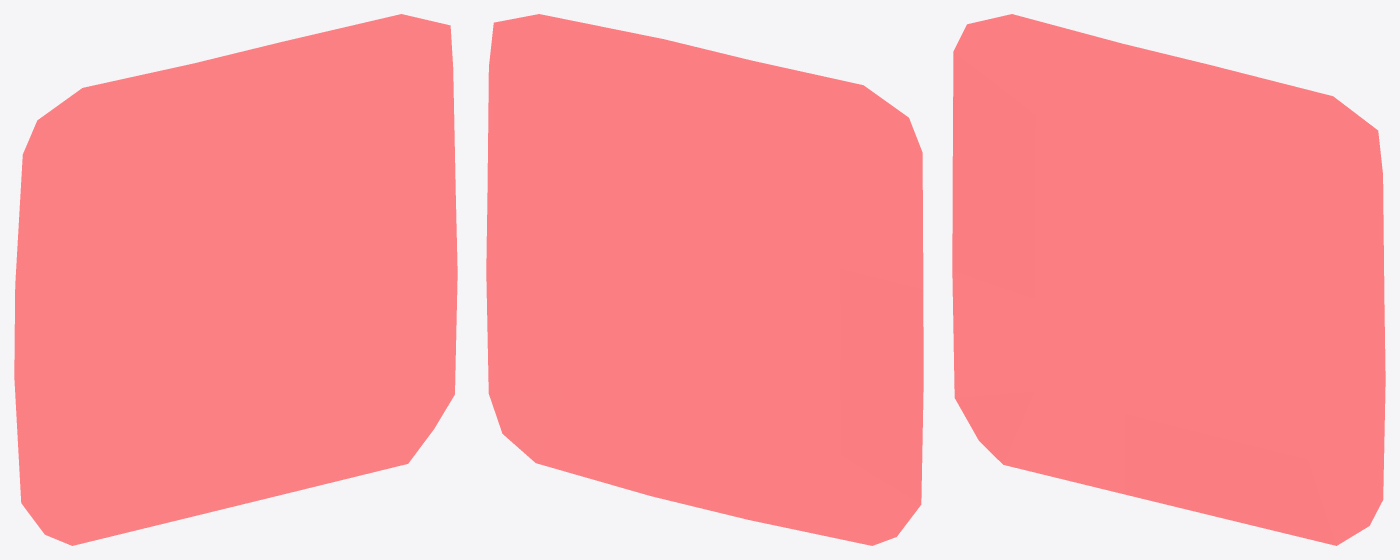
File: triggers_007.gltf
3 renders of one model, left to right at view 1: azimuth 30°, elevation 25°; view 2: azimuth 150°, elevation 25°; view 3: azimuth 330°, elevation 25°, orthographic.
Visible parts, largest first — view 1: Trigger007; view 2: Trigger007; view 3: Trigger007.
Part boxes in pixels (bbox=[...]): Trigger007: bbox=[14, 14, 457, 545]; Trigger007: bbox=[486, 14, 923, 545]; Trigger007: bbox=[952, 14, 1385, 545].
Size of the model in its own units: 1.86 by 1.85 by 0.0305.
